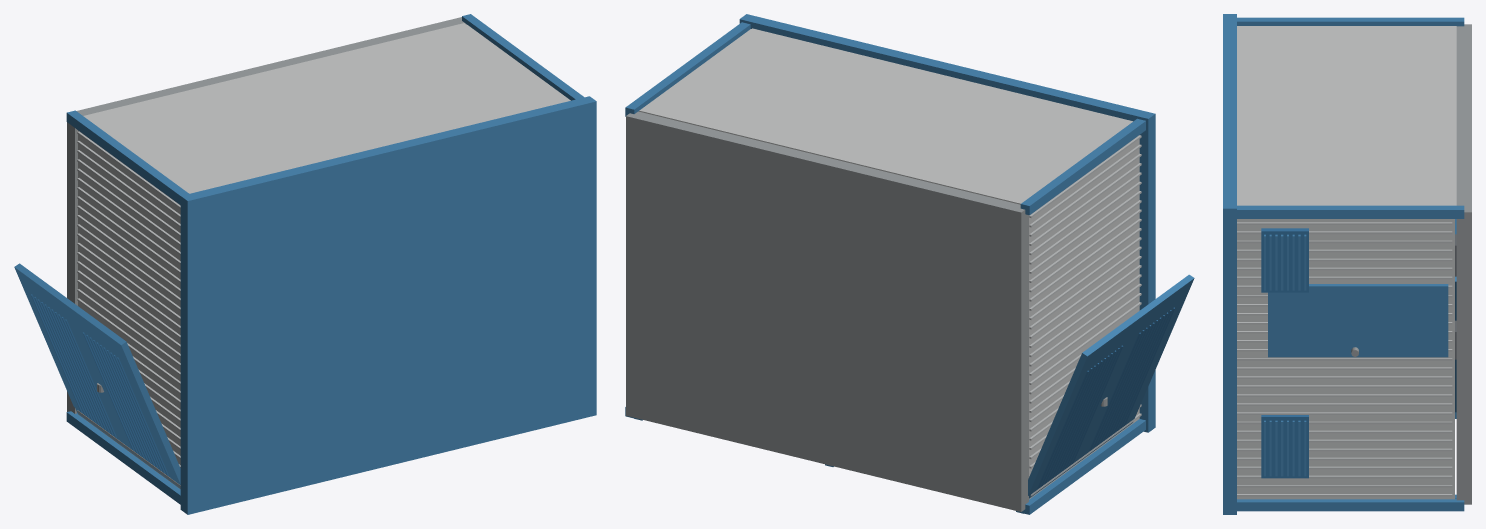
File: kazakhtelecom_substation_solid_no_smoke.glb
The picture shows the model from 3 angles, left to right: view 1: azimuth 30°, elevation 25°; view 2: azimuth 150°, elevation 25°; view 3: azimuth 270°, elevation 25°; orthographic projection. The views are drawn at different scales.
Parts seen in each view (by area): view 1: roof, SOLID REAR WALL, side wall -1, OPEN BLUE DOOR 1, floor steel plate, corner post -2.9 2.1, corner post -2.9 -2.1, corner post 2.9 2.1; view 2: floor steel plate, SOLID REAR WALL, side wall -1, roof, OPEN BLUE DOOR 1, corner post -2.9 2.1, corner post -2.9 -2.1, corner post 2.9 2.1; view 3: SOLID REAR WALL, side wall 1, right personnel door, floor steel plate, roof, corner post 2.9 2.1, corner post 2.9 -2.1, wall vent base 1, wall vent base 0, corner post -2.9 2.1, corrugation side 1 2, corrugation side 1 29 (+21 smaller).
Part boxes in pixels (x1,y1,x2,y2): roof: (180, 96, 596, 514); SOLID REAR WALL: (83, 23, 569, 193); side wall -1: (78, 130, 180, 488); OPEN BLUE DOOR 1: (14, 263, 180, 487); floor steel plate: (67, 17, 465, 413); corner post -2.9 2.1: (66, 110, 188, 204); corner post -2.9 -2.1: (66, 411, 180, 504); corner post 2.9 2.1: (462, 14, 584, 100); floor steel plate: (626, 111, 1028, 511); SOLID REAR WALL: (640, 28, 1132, 204); side wall -1: (1029, 135, 1139, 499); roof: (739, 14, 1155, 432); OPEN BLUE DOOR 1: (1028, 274, 1194, 498); corner post -2.9 2.1: (1020, 118, 1145, 215); corner post -2.9 -2.1: (1020, 419, 1145, 514); corner post 2.9 2.1: (625, 22, 750, 116); SOLID REAR WALL: (1237, 26, 1456, 205); side wall 1: (1237, 219, 1454, 499); right personnel door: (1268, 284, 1448, 357); floor steel plate: (1456, 24, 1471, 504); roof: (1223, 14, 1236, 514); corner post 2.9 2.1: (1237, 205, 1464, 218); corner post 2.9 -2.1: (1237, 499, 1464, 511); wall vent base 1: (1261, 228, 1308, 292); wall vent base 0: (1261, 415, 1308, 478); corner post -2.9 2.1: (1237, 17, 1464, 26); corrugation side 1 2: (1237, 475, 1452, 478); corrugation side 1 29: (1237, 231, 1452, 234).
Bounding box in the file's own units: 6.84 × 4.4 × 3.24.
